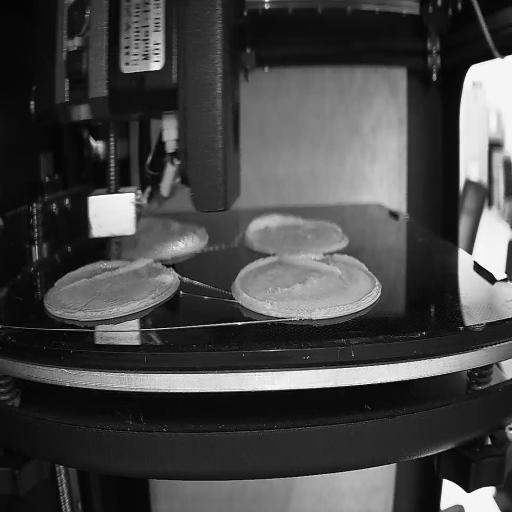over_extrusion: (55, 259, 153, 293), (233, 255, 277, 309), (280, 254, 371, 276), (243, 213, 302, 243), (321, 217, 344, 235)
